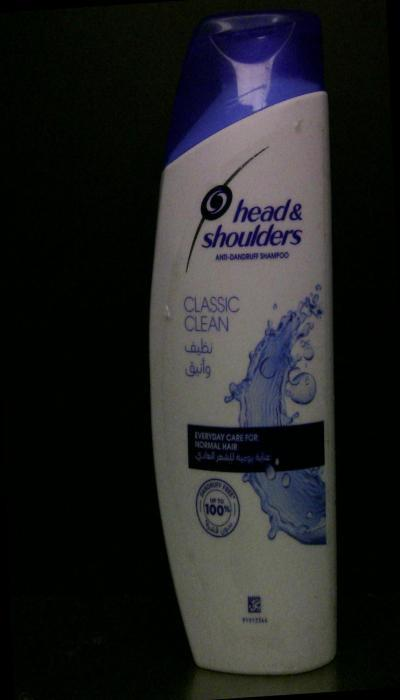tear_marg: (282, 108, 316, 148), (154, 294, 182, 334)
